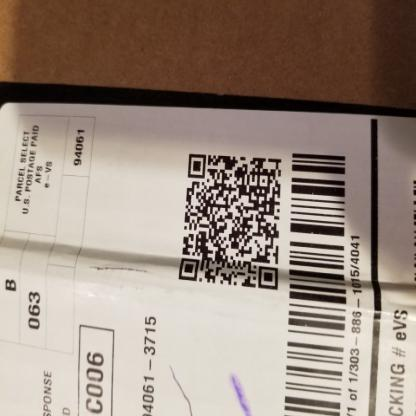barcode: (284, 151, 351, 416), (411, 176, 416, 291)
qr: (178, 150, 285, 294)
